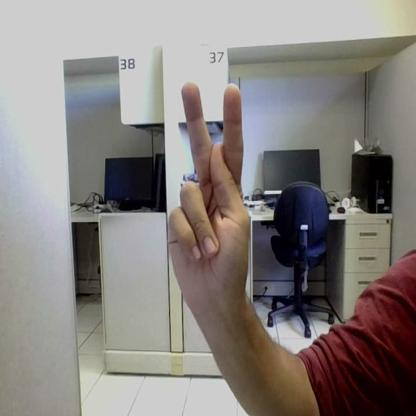K: (169, 83, 249, 292)
